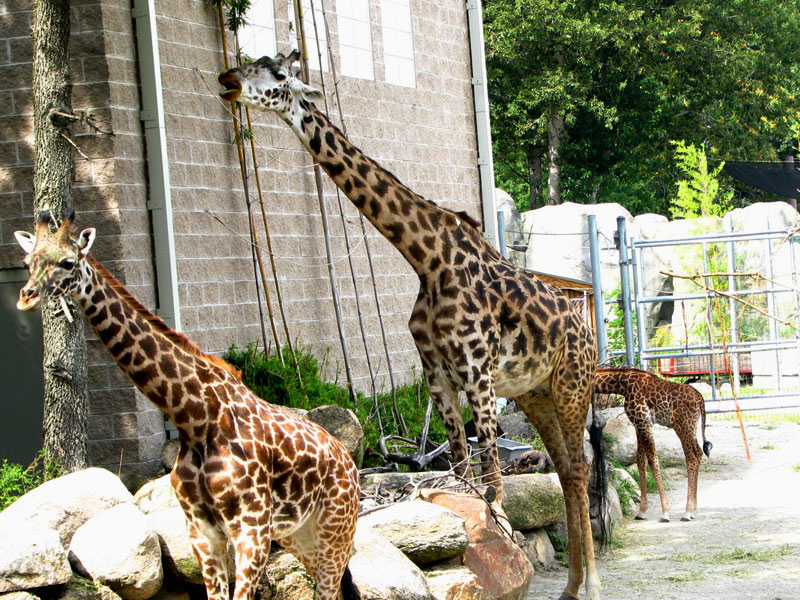giraffe: (225, 49, 642, 570), (22, 210, 382, 575)
